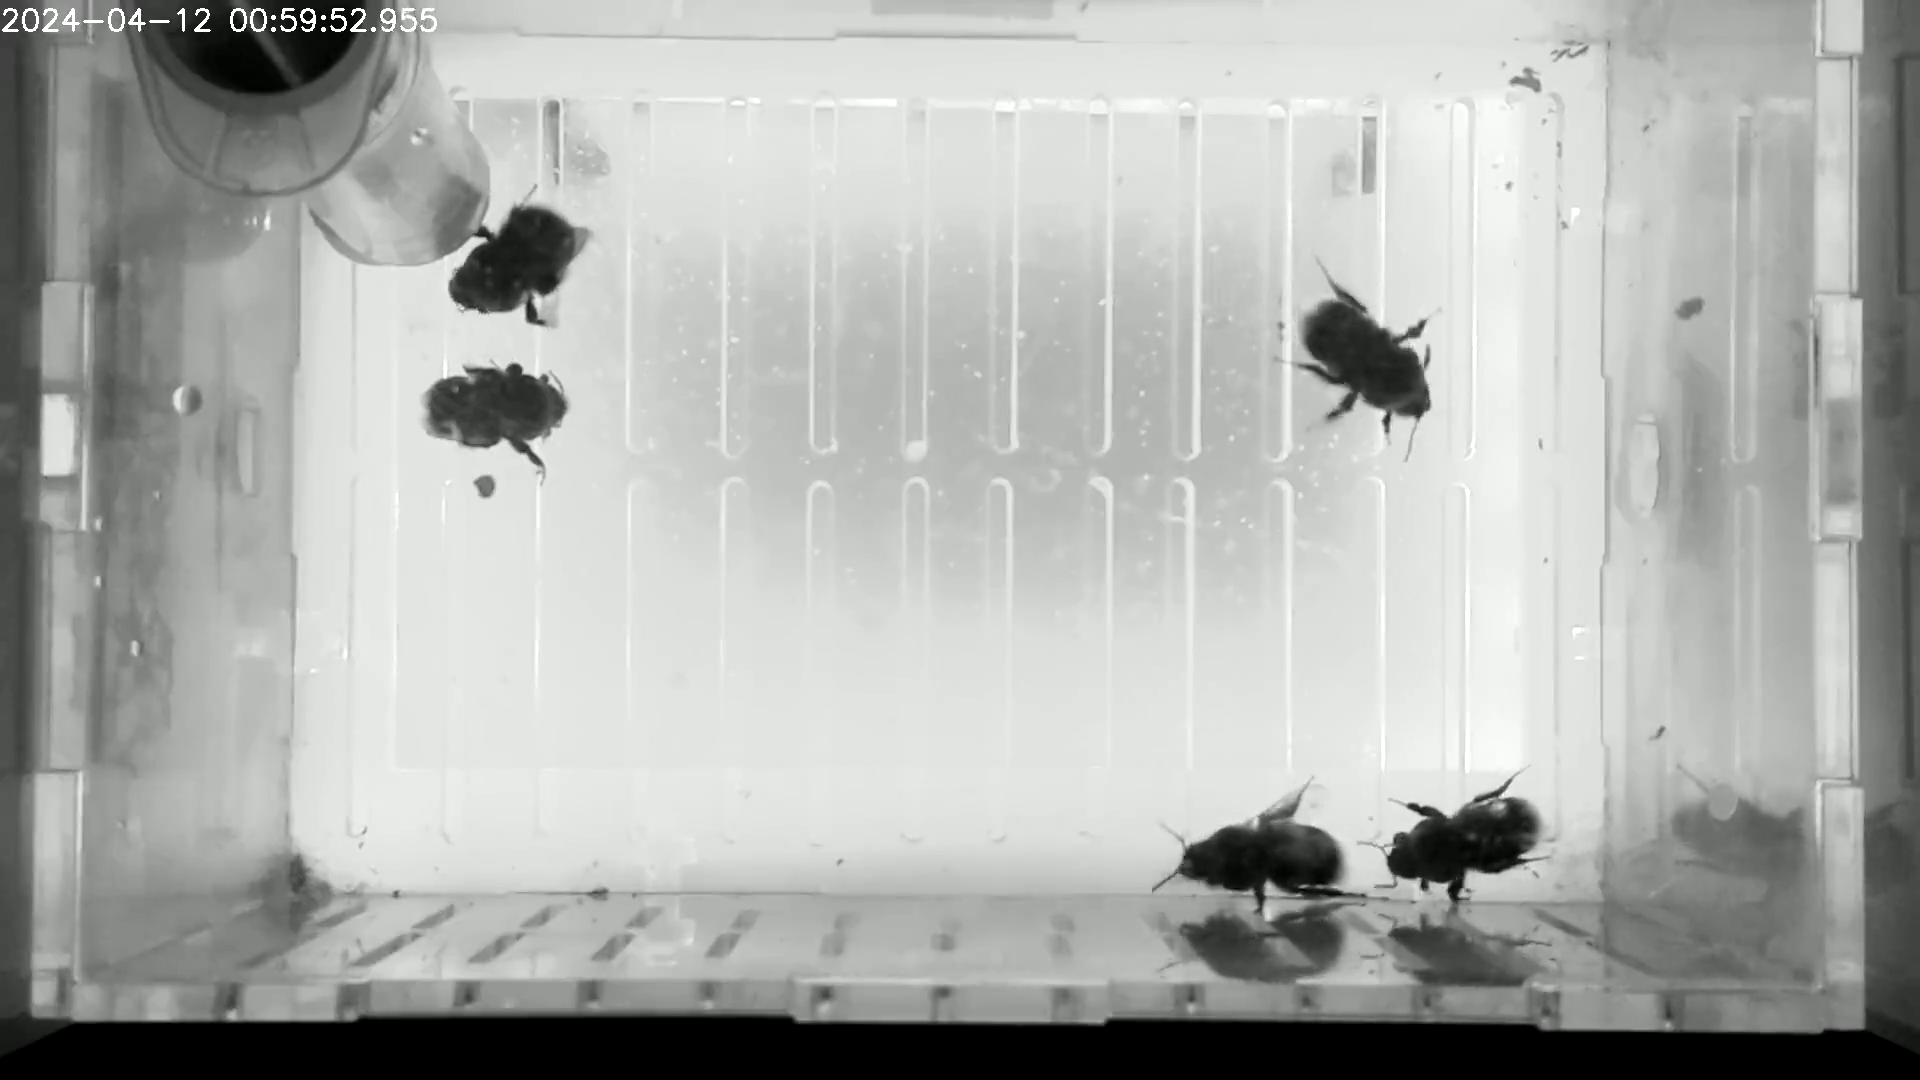bee: (1226, 225, 1498, 492), (1133, 773, 1394, 920), (1352, 764, 1563, 914), (450, 181, 609, 326), (421, 359, 571, 483)
feeder: (261, 47, 539, 326)
